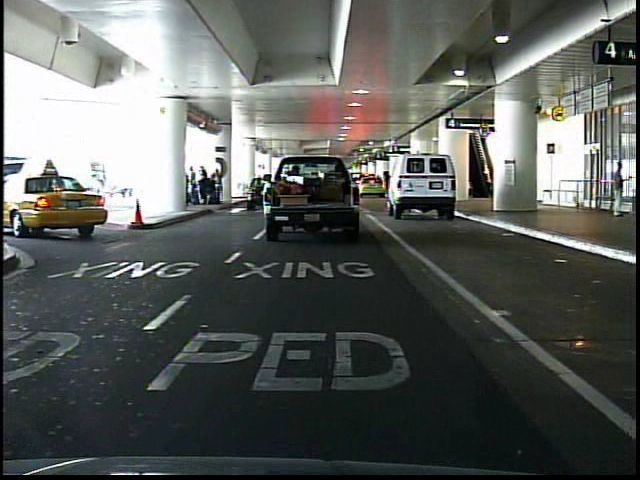person: (604, 158, 630, 220)
